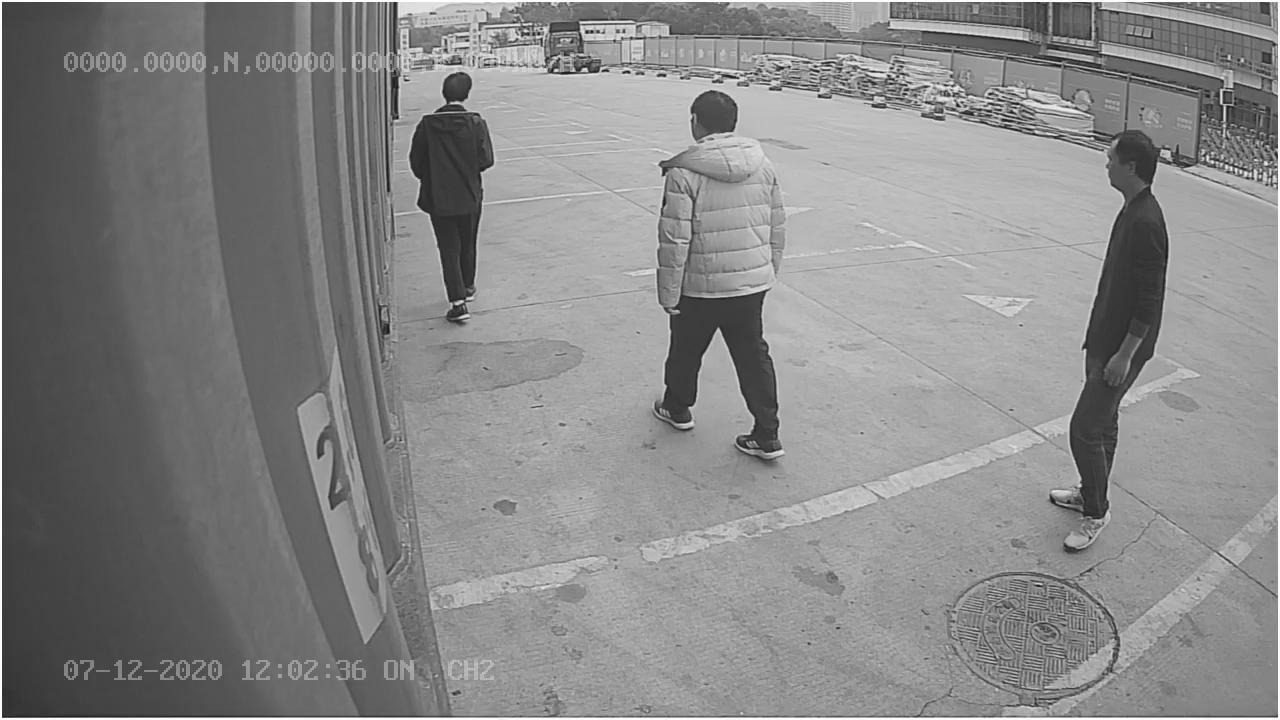person: (1043, 128, 1174, 552), (644, 86, 791, 461), (408, 73, 497, 326)
